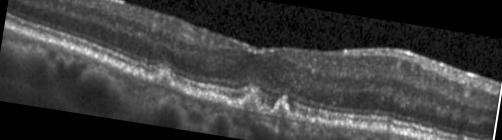retinal_drusen: (272, 101, 288, 118), (242, 96, 258, 112), (157, 71, 170, 87), (302, 118, 320, 127), (229, 100, 241, 108), (260, 106, 271, 114), (385, 124, 393, 134), (216, 99, 227, 106), (136, 71, 144, 79), (151, 76, 158, 84), (335, 121, 341, 129), (428, 136, 436, 140), (406, 132, 411, 138), (321, 123, 327, 128), (327, 125, 334, 129), (419, 135, 424, 140)
